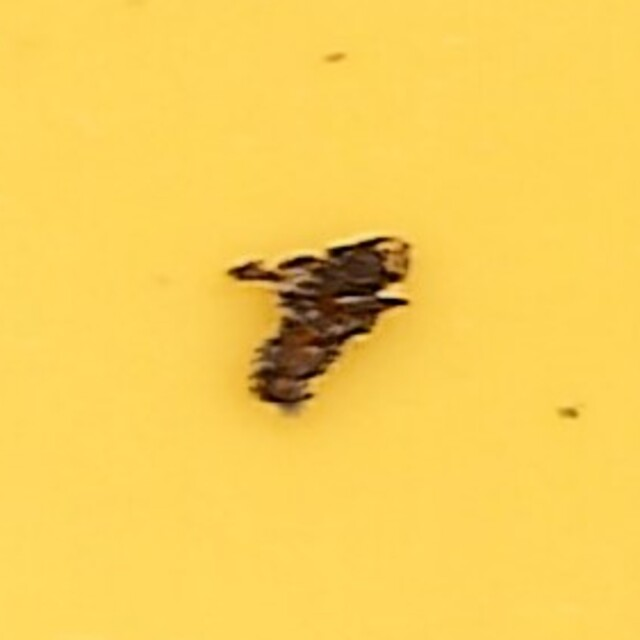Brachycera: (228, 226, 412, 414)
